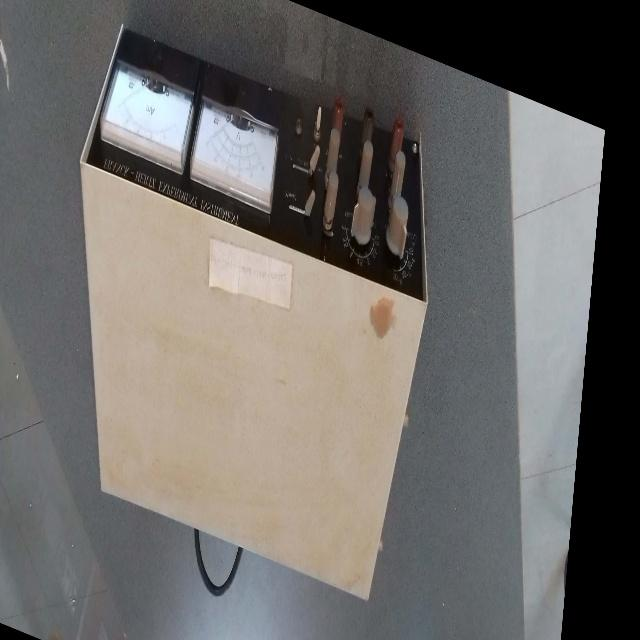Frank-Hertz Experiment Apparatus: (44, 0, 458, 638)
